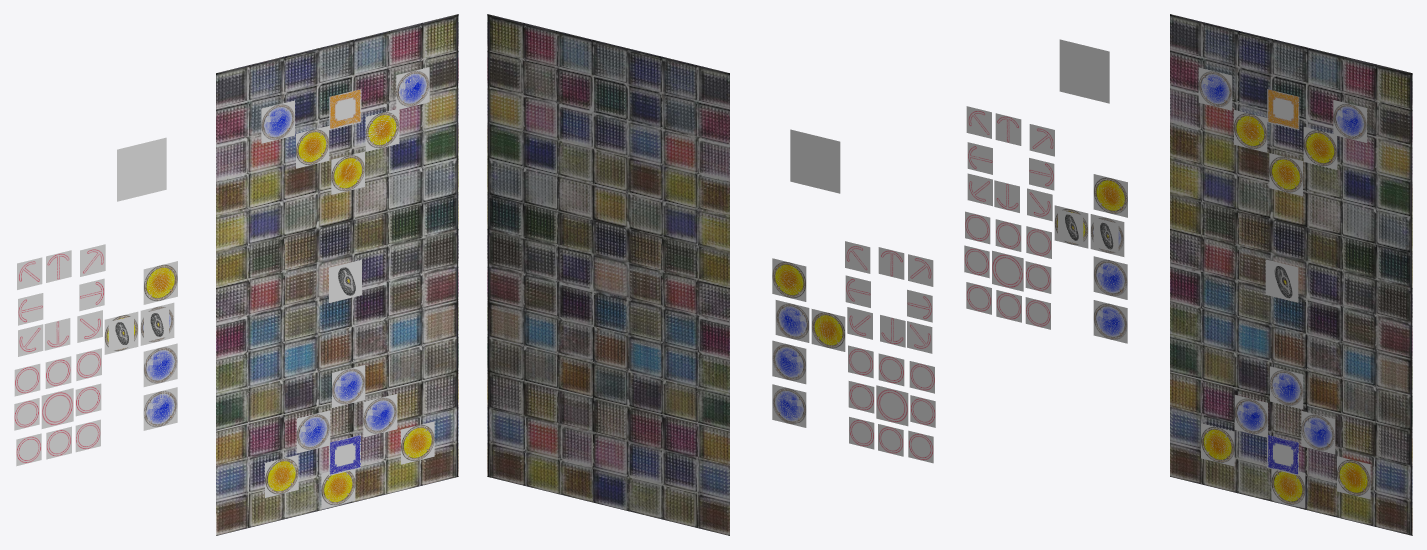
File: Board6Scene.dae
3 renders of one model, left to right at view 1: azimuth 30°, elevation 25°; view 2: azimuth 150°, elevation 25°; view 3: azimuth 330°, elevation 25°, orthographic.
Visible parts, largest first — view 1: Board03, Transparent, BlueBeanObject (×2), Blue07, Red07, Blue06, Blue03, Blue02, Red03, Red05, Blue05, Blue04 (+26 smaller); view 2: Board03, Transparent, Blue07, Red07, Blue06, RedBeanObject, BlueBeanObject, YellowFlare, PossibleN, PossibleE, PossibleW_1, PossibleNW (+12 smaller); view 3: Board03, Transparent, BlueBeanObject (×2), RedBeanObject (×2), Blue06, Blue07, Red07, Blue03, Blue05, Red03, NewBean, Red05 (+26 smaller).
Boxes of the visible parts, x1=… form: Board03: x1=216, y1=14, x2=458, y2=535; Transparent: x1=117, y1=137, x2=166, y2=201; BlueBeanObject (×2): x1=140, y1=302, x2=174, y2=345; Blue07: x1=143, y1=387, x2=177, y2=430; Red07: x1=143, y1=261, x2=177, y2=304; Blue06: x1=143, y1=343, x2=177, y2=386; Blue03: x1=363, y1=394, x2=397, y2=437; Blue02: x1=296, y1=410, x2=330, y2=453; Red03: x1=365, y1=109, x2=399, y2=151; Red05: x1=401, y1=421, x2=434, y2=464; Blue05: x1=261, y1=100, x2=294, y2=143; Blue04: x1=396, y1=67, x2=429, y2=110; Board03: x1=487, y1=14, x2=729, y2=535; Transparent: x1=790, y1=129, x2=840, y2=193; Blue07: x1=772, y1=384, x2=806, y2=427; Red07: x1=772, y1=258, x2=806, y2=301; Blue06: x1=772, y1=340, x2=806, y2=384; RedBeanObject: x1=811, y1=309, x2=845, y2=351; BlueBeanObject: x1=775, y1=300, x2=809, y2=342; YellowFlare: x1=876, y1=385, x2=908, y2=426; PossibleN: x1=878, y1=353, x2=904, y2=386; PossibleE: x1=848, y1=381, x2=874, y2=413; PossibleW_1: x1=878, y1=247, x2=904, y2=279; PossibleNW: x1=848, y1=345, x2=873, y2=378; Board03: x1=1170, y1=14, x2=1412, y2=535; Transparent: x1=1059, y1=39, x2=1109, y2=103; BlueBeanObject (×2): x1=1090, y1=214, x2=1124, y2=256; RedBeanObject (×2): x1=1054, y1=205, x2=1088, y2=248; Blue06: x1=1093, y1=256, x2=1127, y2=299; Blue07: x1=1093, y1=300, x2=1127, y2=343; Red07: x1=1093, y1=174, x2=1127, y2=217; Blue03: x1=1301, y1=411, x2=1335, y2=454; Blue05: x1=1198, y1=67, x2=1232, y2=110; Red03: x1=1303, y1=127, x2=1337, y2=169; NewBean: x1=1265, y1=259, x2=1298, y2=302; Red05: x1=1337, y1=456, x2=1370, y2=499.
Bounding box in the file's own units: 66.49 × 2.32 × 65.85.
11 materials, 11 textured.
